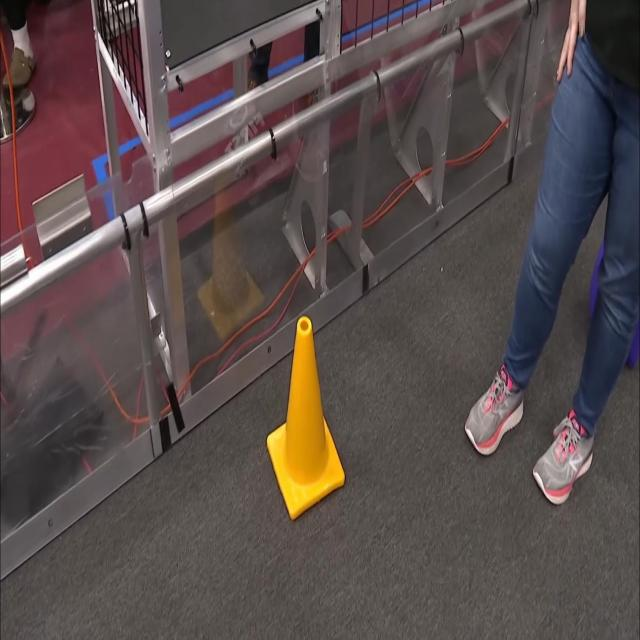frc_cone: (264, 314, 343, 519)
